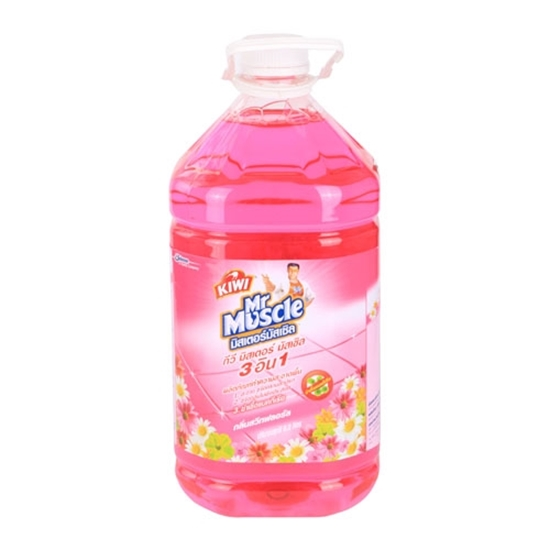Cleaning_solution: (165, 30, 388, 523)
